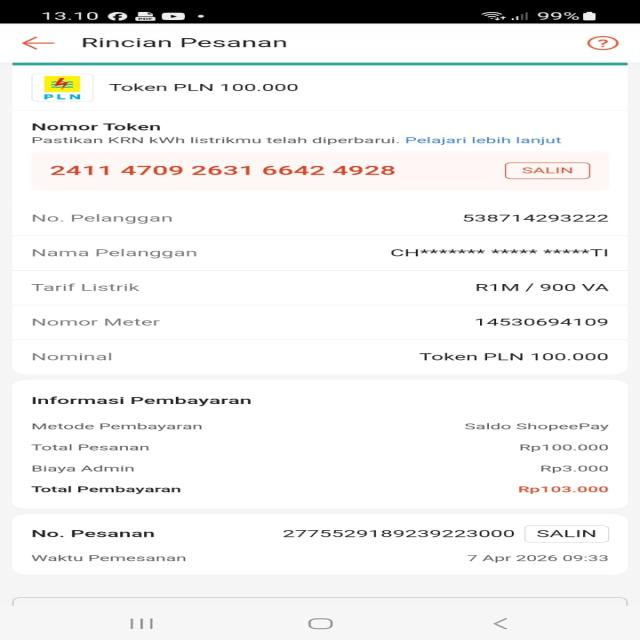date: (456, 549, 620, 566)
store: (101, 79, 311, 96)
total: (29, 481, 619, 498)
